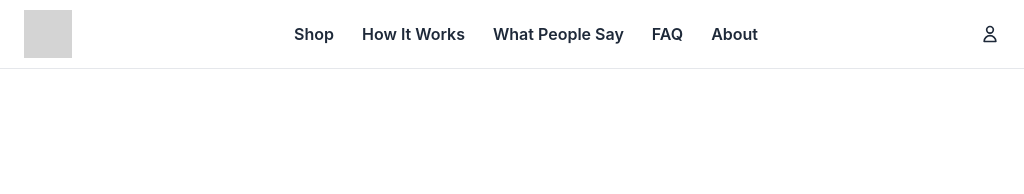
Test: Navigation › shows backend-driven category links in shop dropdown
This screenshot has width=1024, height=194.
Hover over the element showing "Shop" at (314, 34), box [294, 22, 334, 46]
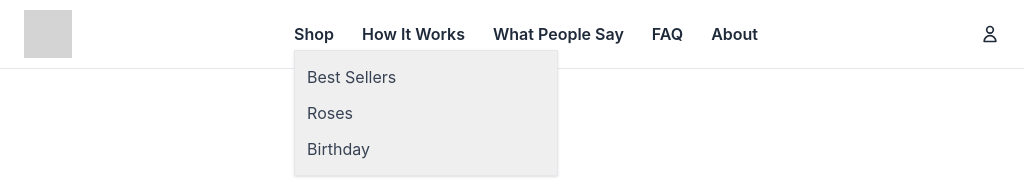
Expected: the link "Best Sellers" is shown, [307, 67, 396, 87]
Expected: the link "Roses" is shown, [307, 103, 353, 123]
Expected: the link "Birthday" is shown, [307, 139, 370, 159]
